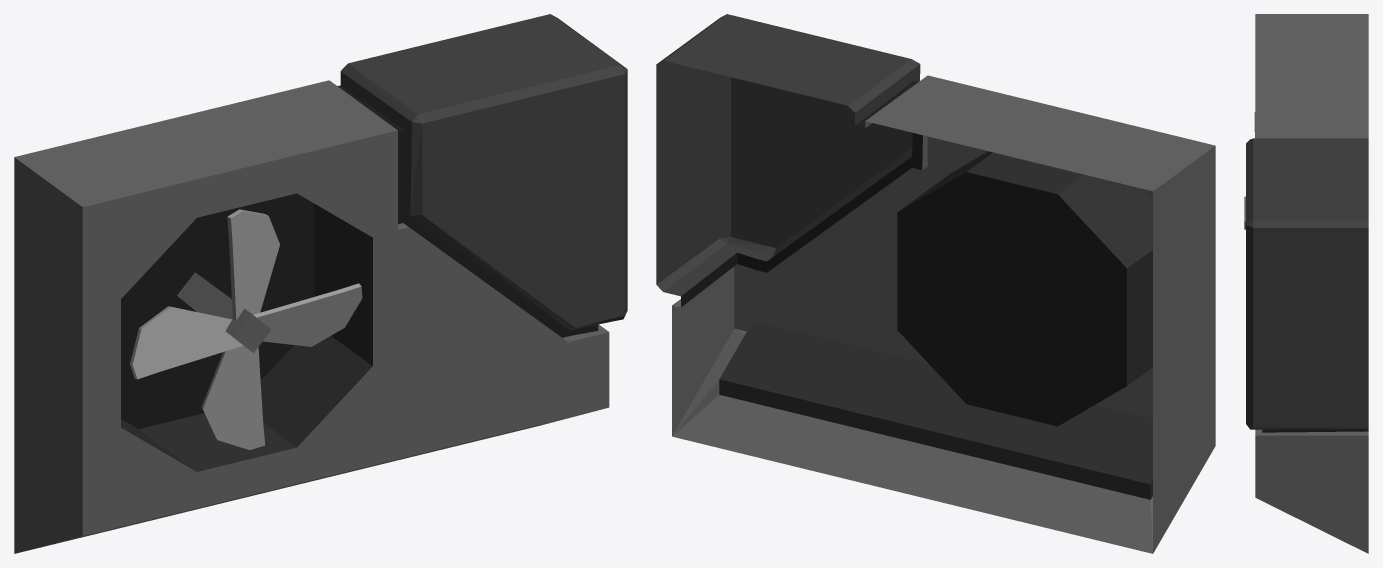
File: vent_E.FBX
The picture shows the model from 3 angles, left to right: view 1: azimuth 30°, elevation 25°; view 2: azimuth 150°, elevation 25°; view 3: azimuth 270°, elevation 25°; orthographic projection. The views are drawn at different scales.
Parts seen in each view (by area): view 1: vent_E; view 2: vent_E; view 3: vent_E.
Part boxes in pixels (left/top/right/bottom): vent_E: left=14, top=14, right=627, bottom=553; vent_E: left=656, top=14, right=1215, bottom=553; vent_E: left=1244, top=14, right=1368, bottom=553.
Size of the model in its own units: 30.44 by 21.89 by 7.29.
